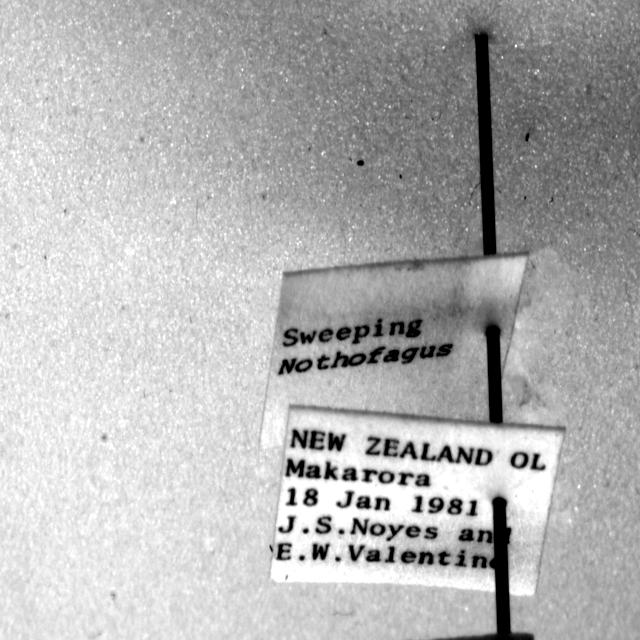typed_label: (271, 407, 564, 596), (260, 253, 528, 448)
